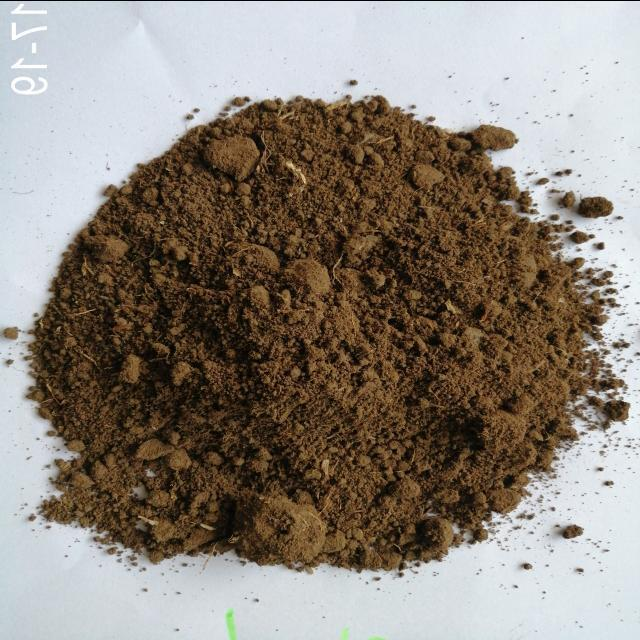soil: (112, 202, 500, 478)
